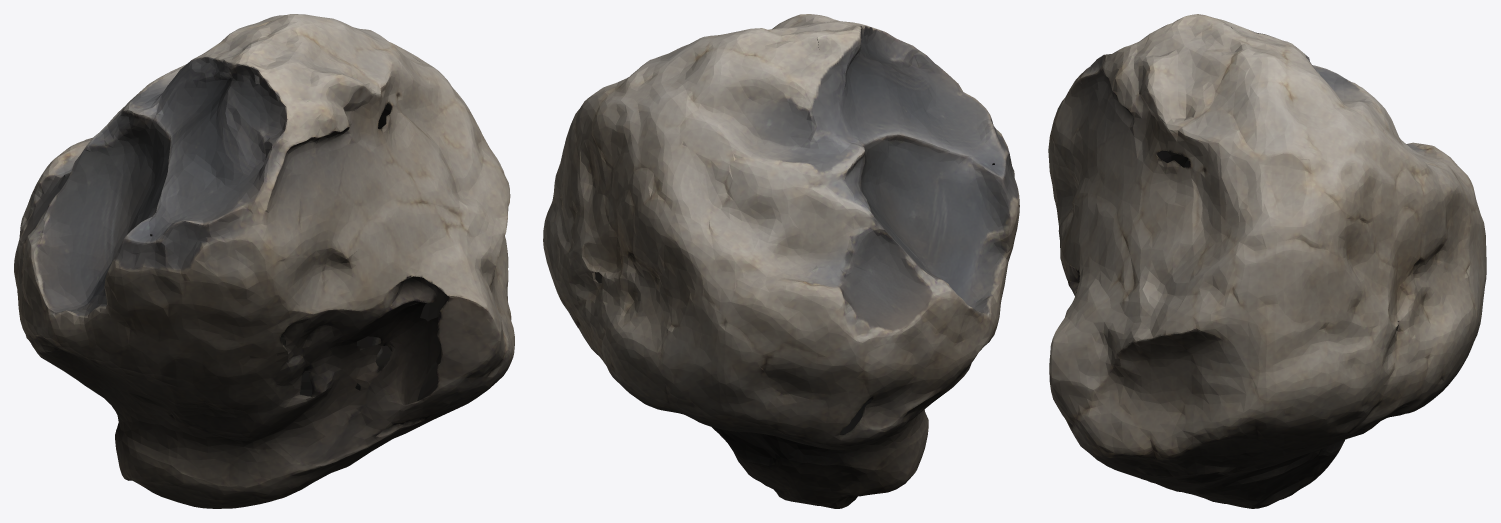
3 renders of one model, left to right at view 1: azimuth 30°, elevation 25°; view 2: azimuth 150°, elevation 25°; view 3: azimuth 270°, elevation 25°, orthographic. The views are drawn at different scales.
Visible parts, largest first — view 1: world; view 2: world; view 3: world.
Part boxes in pixels (x1,y1,x2,y2): world: [14, 14, 514, 508]; world: [543, 14, 1019, 508]; world: [1048, 14, 1486, 508].
Bounding box in the file's own units: 0.942 × 0.9202 × 0.7782.
Materials: 1 (1 with a texture image).
